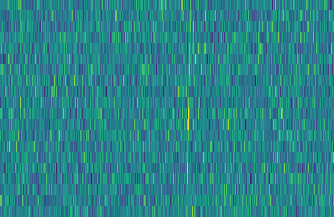signal: (182, 0, 194, 217)
